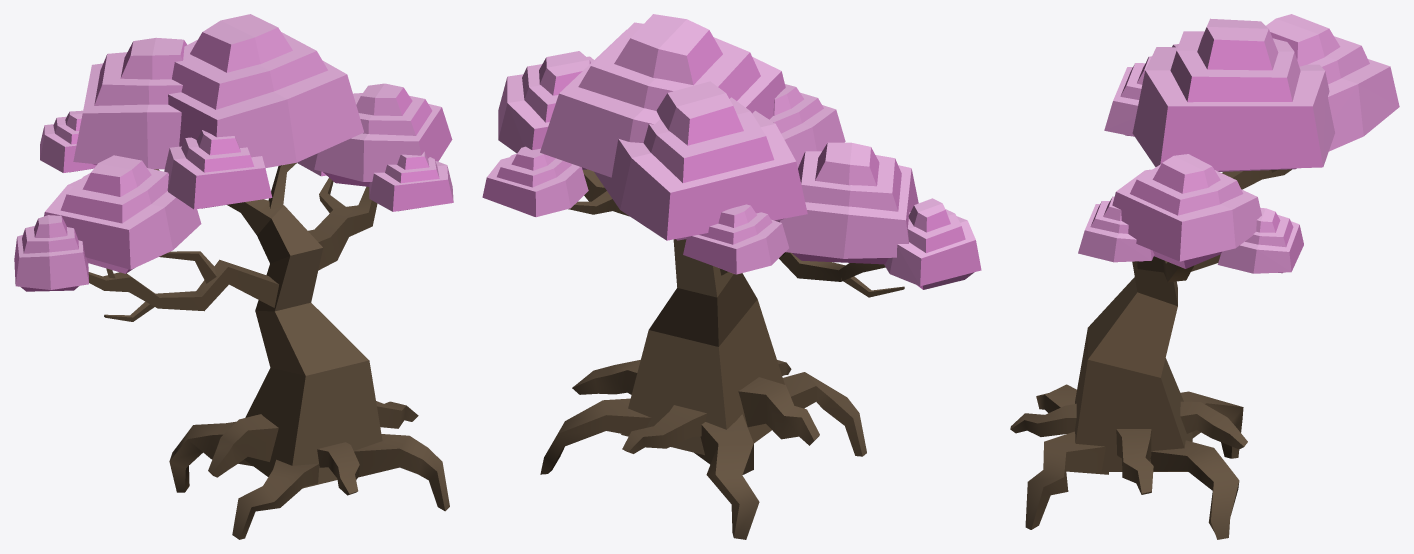
File: SF_Env_Tree_Large_03.fbx
3 views of the same model, side by side, from view 1: azimuth 30°, elevation 25°; view 2: azimuth 150°, elevation 25°; view 3: azimuth 270°, elevation 25° (orthographic). The views are drawn at different scales.
Visible parts, largest first — view 1: SF_Env_Tree_Large_03; view 2: SF_Env_Tree_Large_03; view 3: SF_Env_Tree_Large_03.
Boxes of the visible parts, bbox=[...] form: SF_Env_Tree_Large_03: bbox=[14, 14, 453, 539]; SF_Env_Tree_Large_03: bbox=[482, 14, 981, 539]; SF_Env_Tree_Large_03: bbox=[1010, 14, 1399, 539].
Size of the model in its own units: 16.54 by 16.2 by 12.34.
